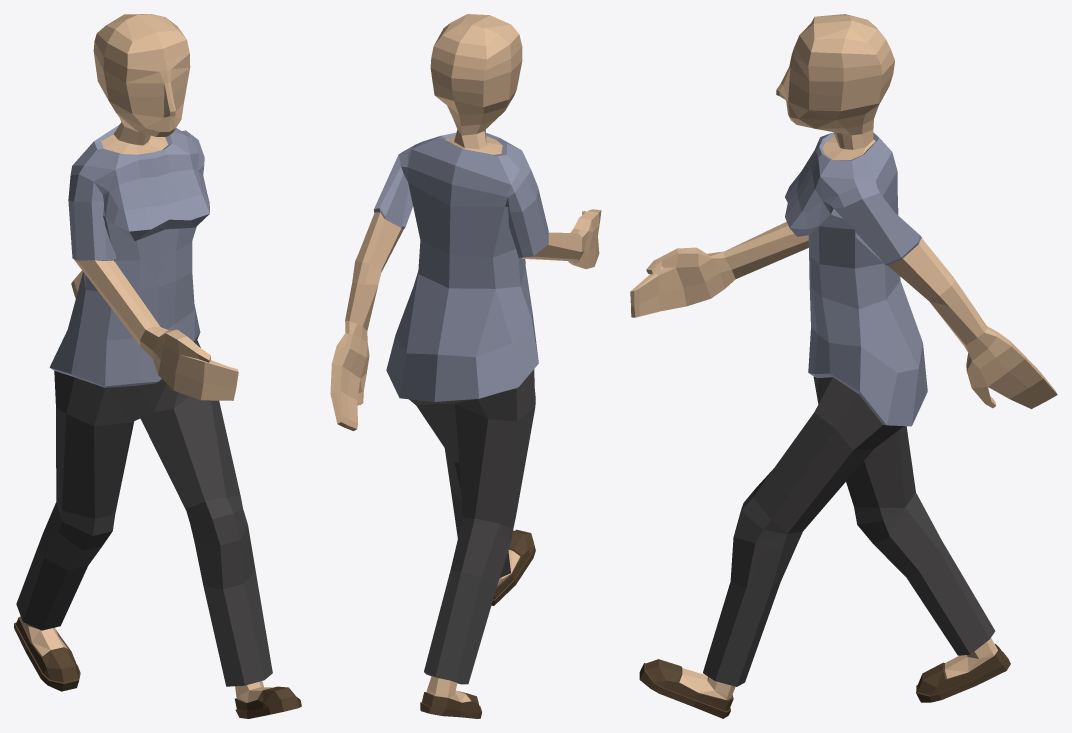
Rendered from trabajadora.glb.
The picture shows the model from 3 angles, left to right: view 1: azimuth 30°, elevation 25°; view 2: azimuth 150°, elevation 25°; view 3: azimuth 270°, elevation 25°; orthographic projection. The views are drawn at different scales.
Parts seen in each view (by area): view 1: Female_Running; view 2: Female_Running; view 3: Female_Running.
Boxes of the visible parts, x1,y1,x2,y2 form: Female_Running: (14,14,301,718); Female_Running: (330,14,601,718); Female_Running: (630,14,1057,718).
Bounding box in the file's own units: 0.8366 × 3.7 × 2.06.
